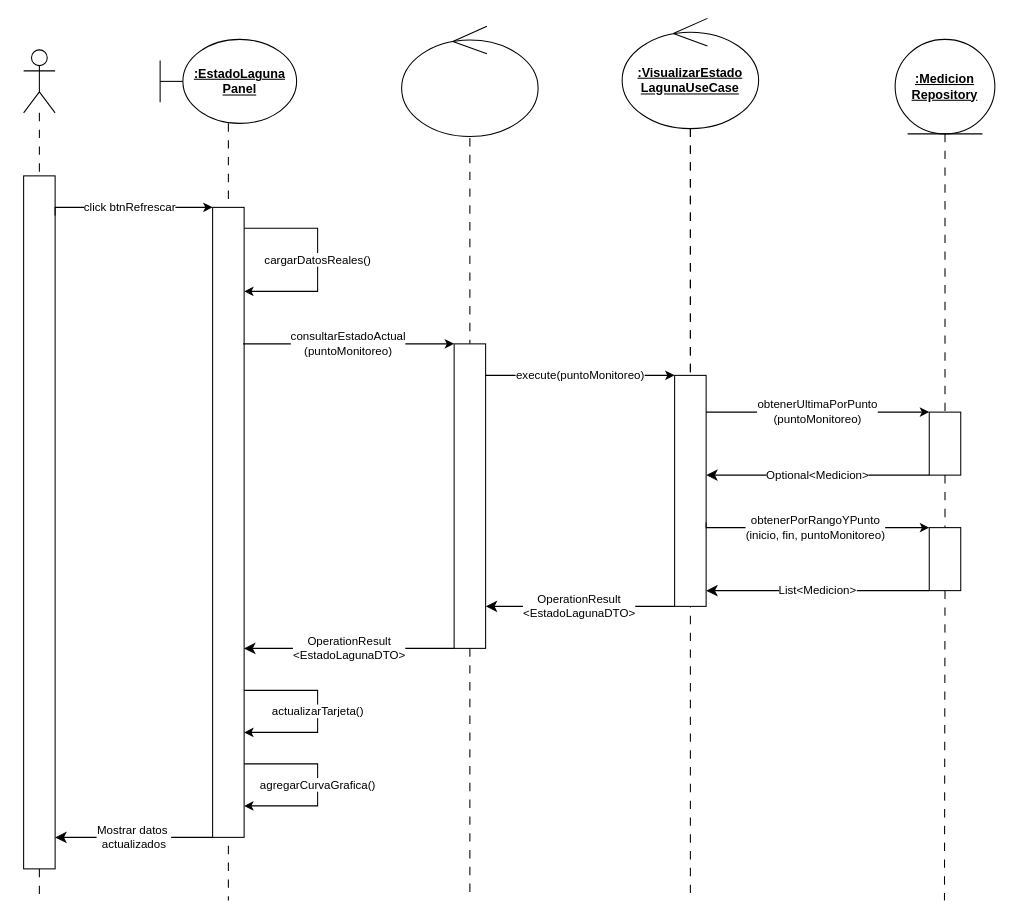
This 1013x920 diagram has some shape labels left out. The shapes that lost their labels are listed below. From the top down, each one's box as (x1, y1, x2, y2) in pixels, then its label:
(23, 49, 55, 113): Usuario
(401, 25, 538, 136): :VenturosaApp
